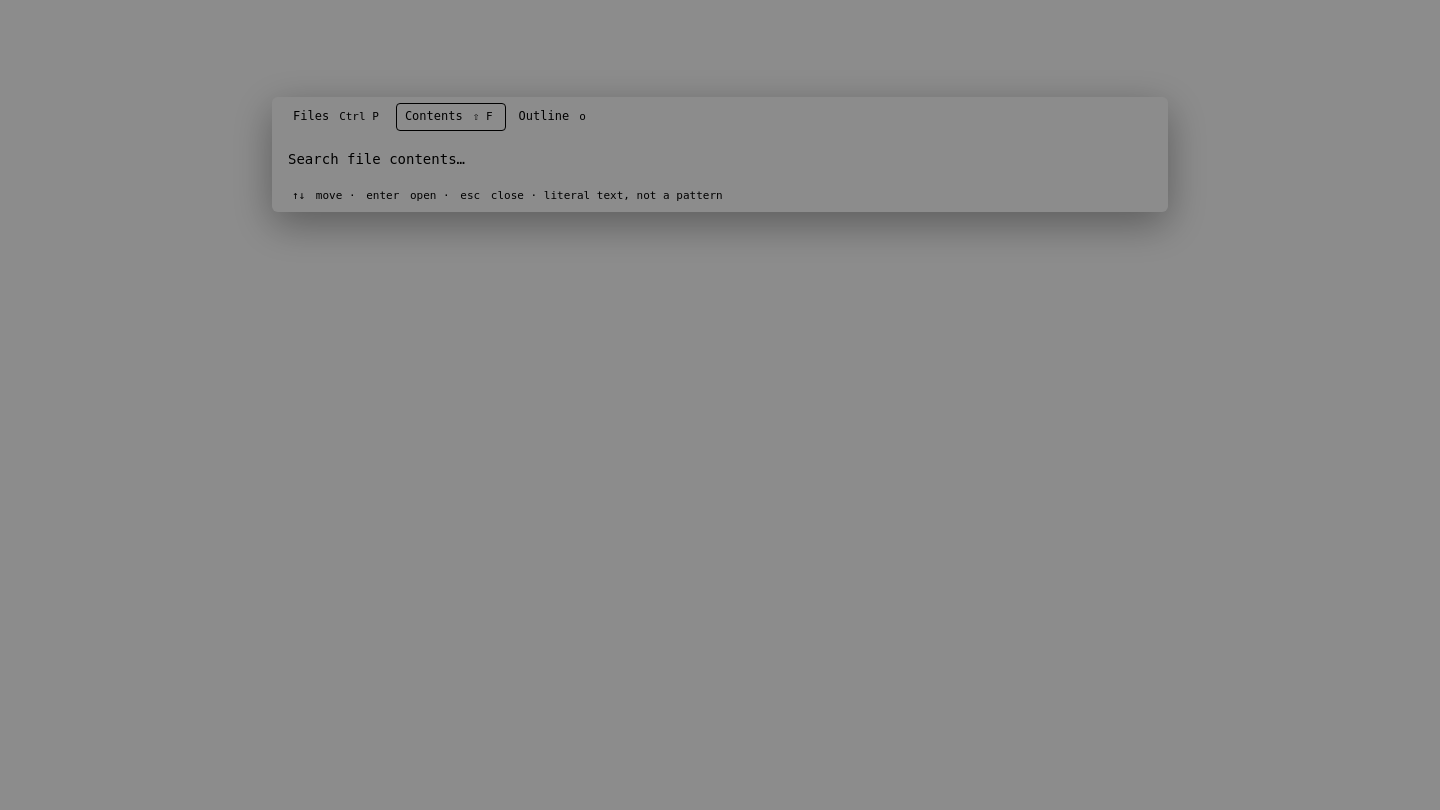
querying › groups hits by file, in first-hit order
The image size is (1440, 810).
Type "needle" into the dropdown with test id "search-input" at {"x": 720, "y": 158}, box top-left (272, 137), bottom-right (1168, 180)
Wait 500 ms
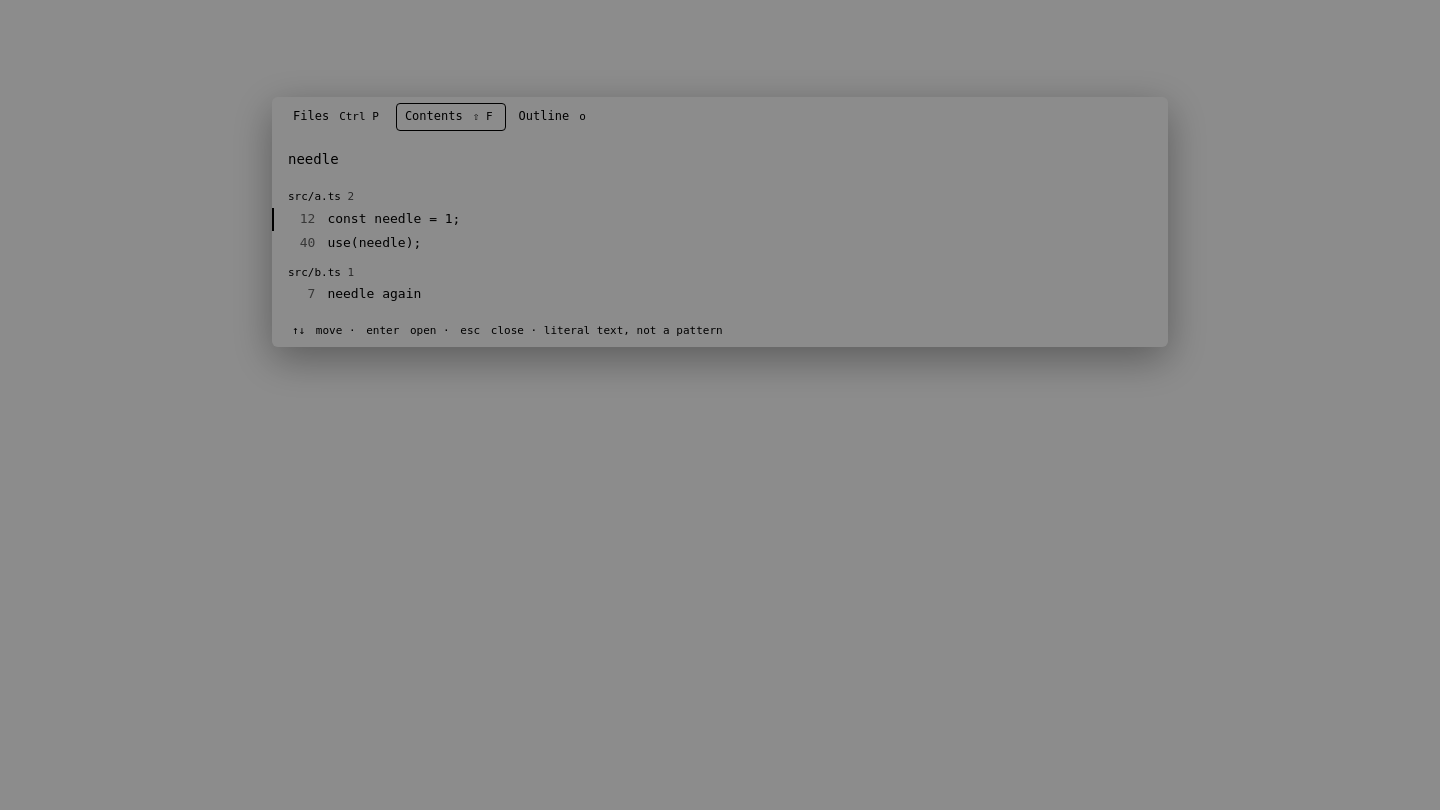
Result: the element with class "hit-path" shows "src/a.ts" at top-left (288, 190), bottom-right (348, 204)
Result: the element with class "hit-path" shows "2" at top-left (348, 190), bottom-right (354, 204)
Result: the element with class "hit-path" shows "src/b.ts" at top-left (288, 266), bottom-right (348, 279)
